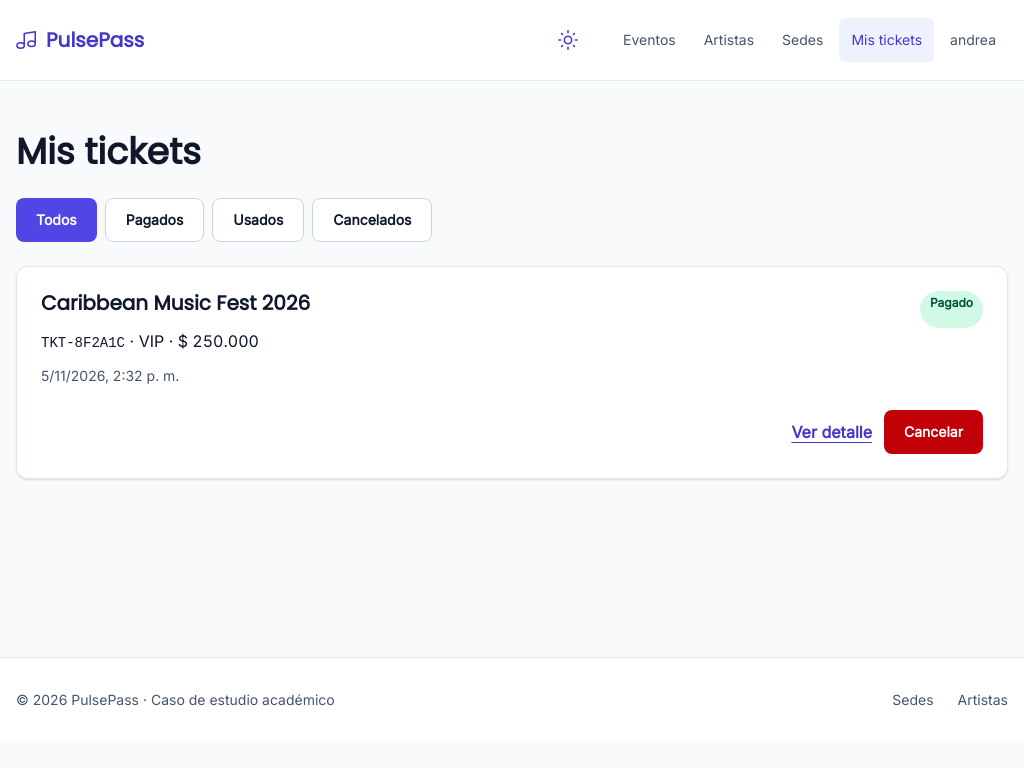
Test: TEST-FE-TKT-008 409 cancelación mantiene modal
Click the button "Cancelar" at (934, 432), box [884,410,983,454]
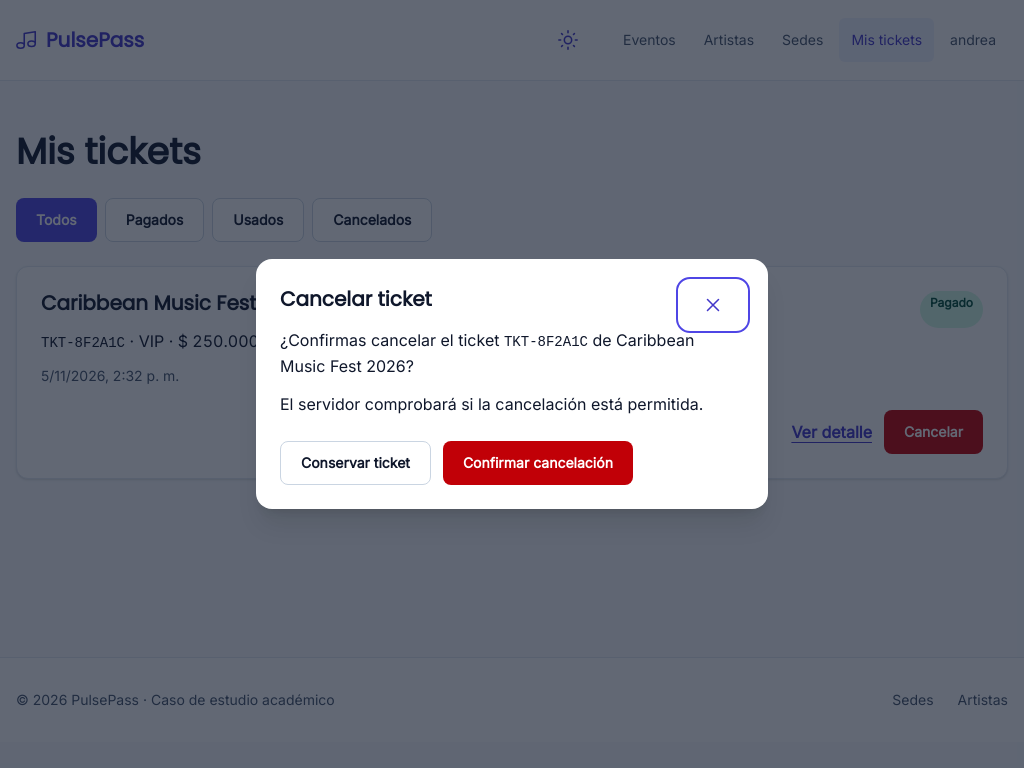
Click the button "Confirmar cancelación" at (538, 463), box [443,441,633,485]
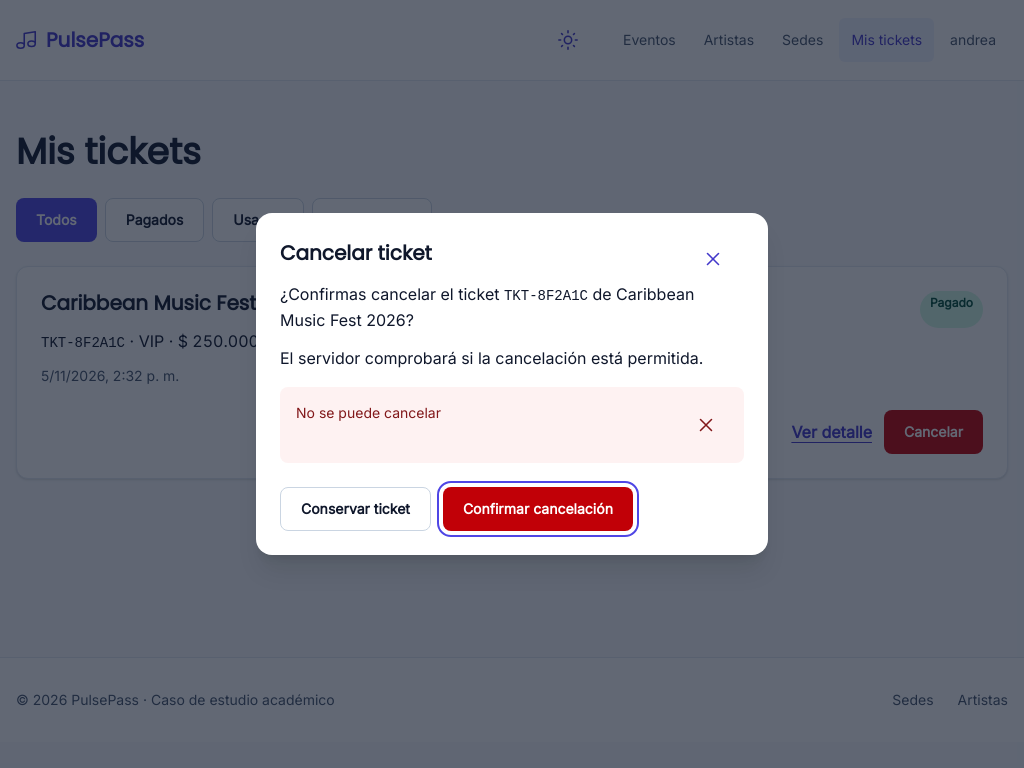
Check: the dialog is shown, box [256,213,768,555]
Check: the text "No se puede cancelar" is shown, box [296,403,441,423]
